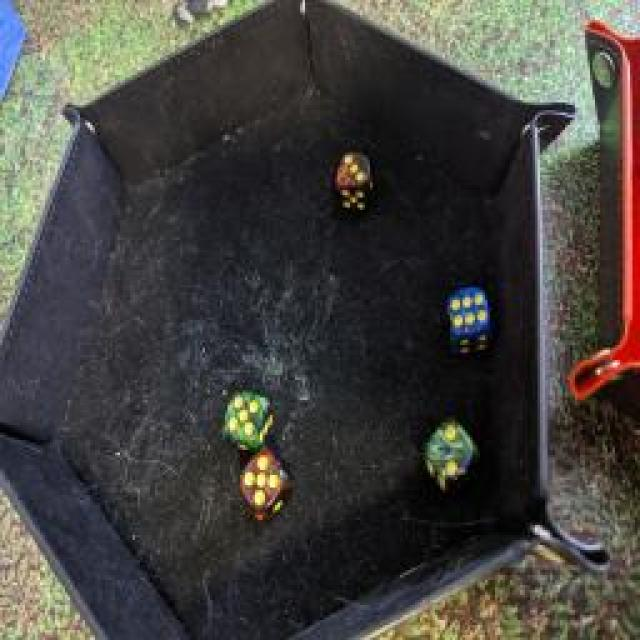dice_2: (422, 414, 482, 496)
dice_3: (335, 148, 375, 212)
dice_5: (235, 442, 293, 528), (222, 384, 276, 451)
dice_6: (445, 284, 500, 358)
